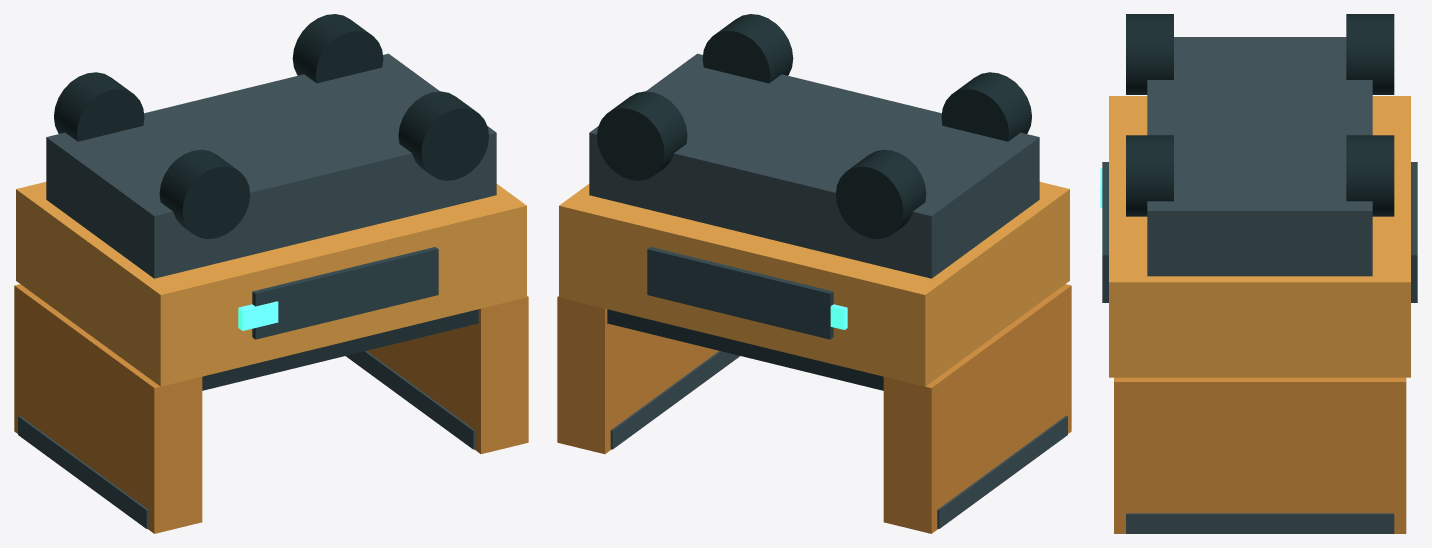
File: oht.glb
3 renders of one model, left to right at view 1: azimuth 30°, elevation 25°; view 2: azimuth 150°, elevation 25°; view 3: azimuth 270°, elevation 25°, orthographic. The views are drawn at different scales.
Parts seen in each view (by area): view 1: carriage; view 2: carriage; view 3: carriage.
Part boxes in pixels (x1,y1,x2,y2): carriage: [14, 14, 528, 533]; carriage: [557, 14, 1071, 533]; carriage: [1100, 14, 1417, 533].
Size of the model in its own units: 0.95 by 0.83 by 0.6625.
